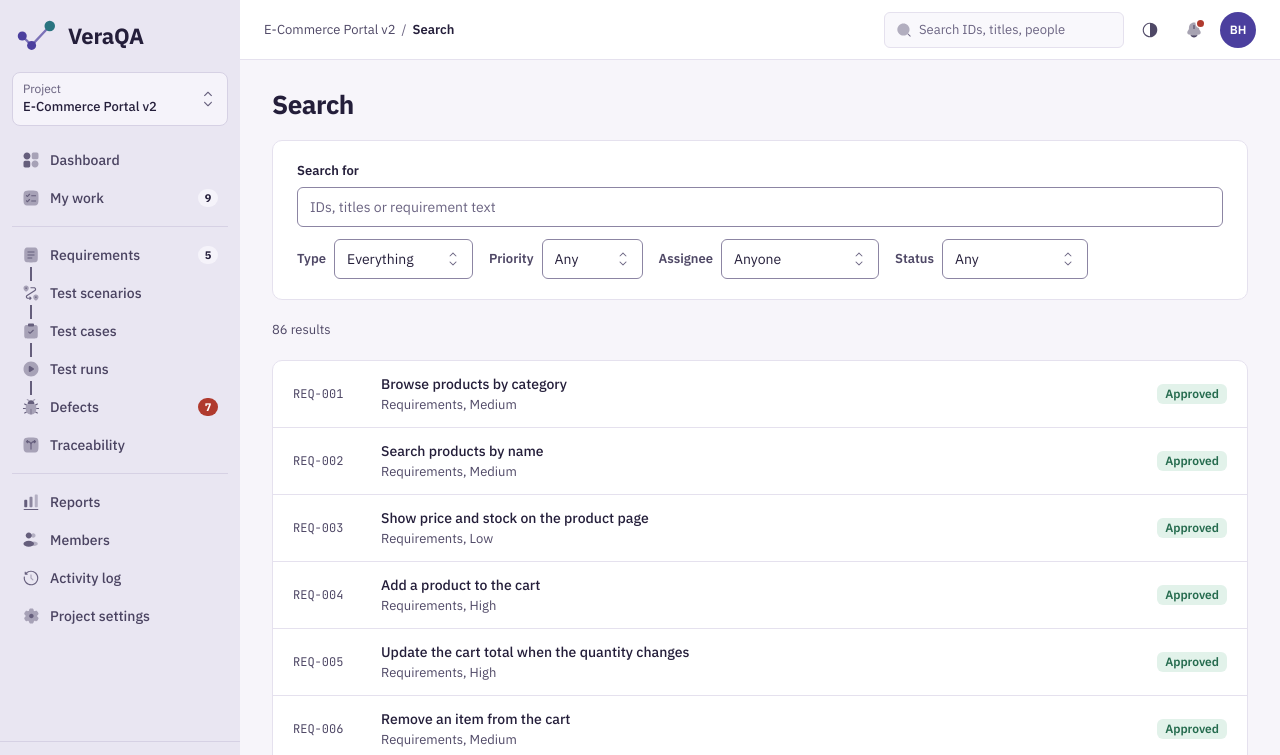
Test: Search › searches as you type and keeps the query in the address
Type "lock" into the search field labelled "Search for" at coordinates (760, 207), box [297,187,1223,227]
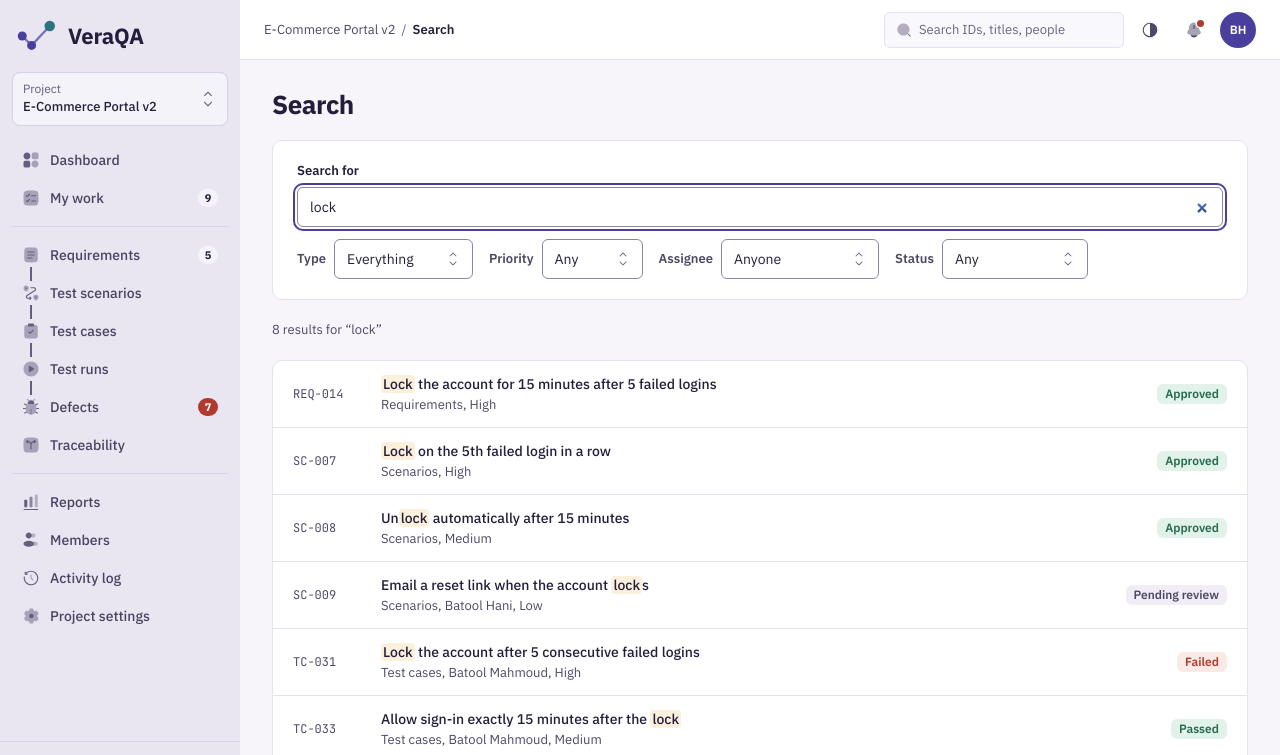
Expected: the text "Lock" next to "REQ-014" is shown, [383,375,413,393]
Expected: the text "8 results for “lock”" is shown, [272,321,382,338]
